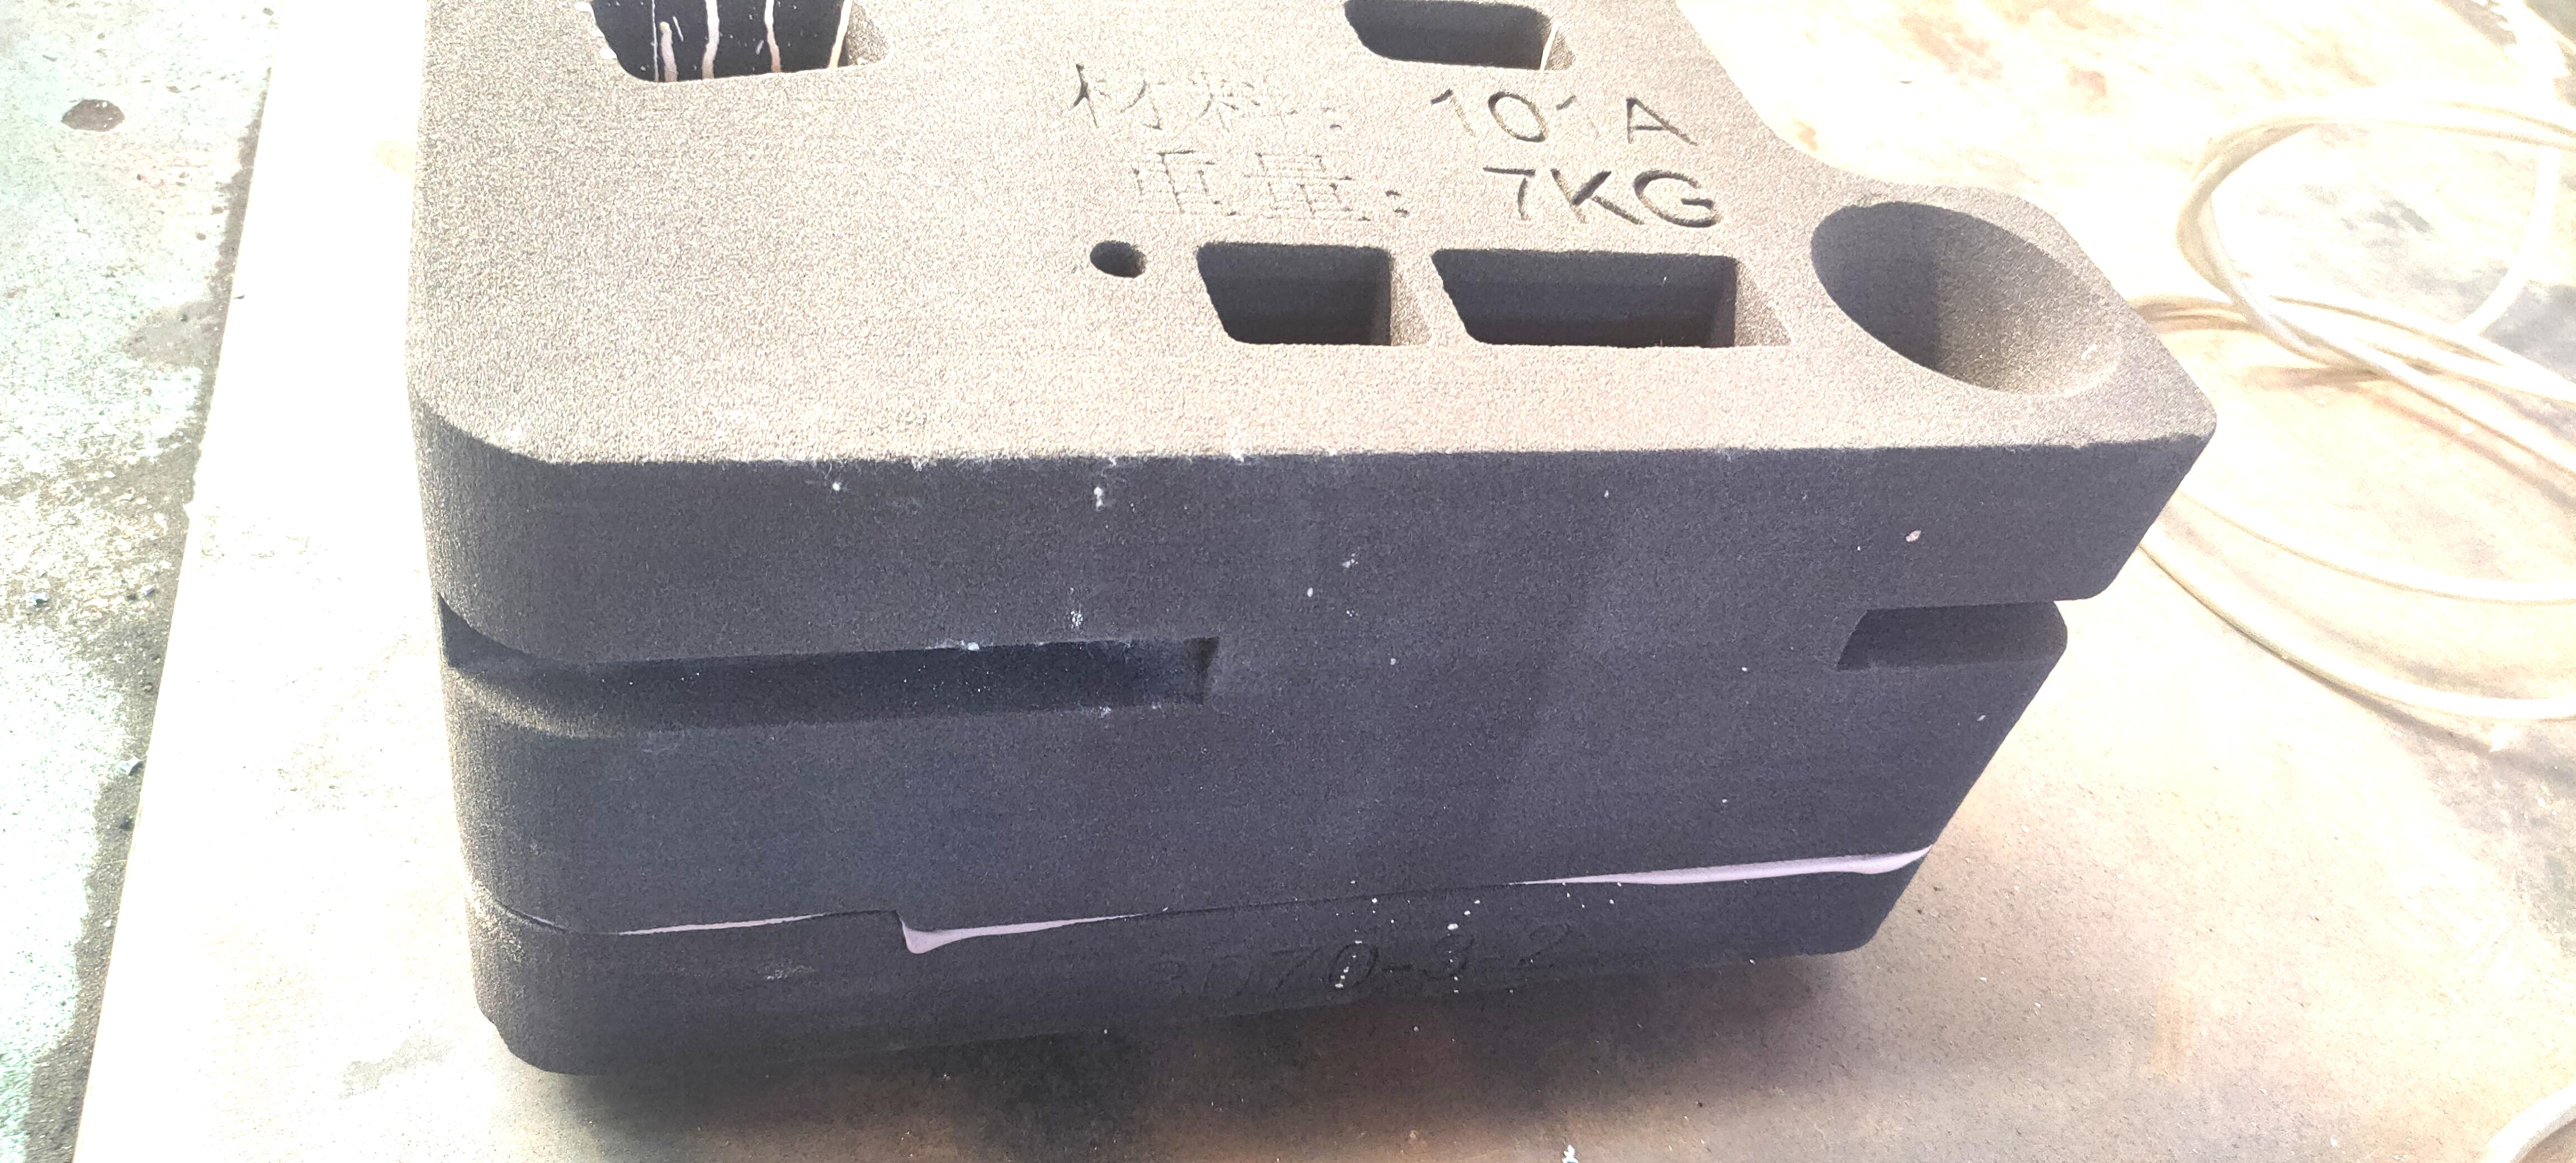pouring hole: (1809, 204, 2121, 399)
